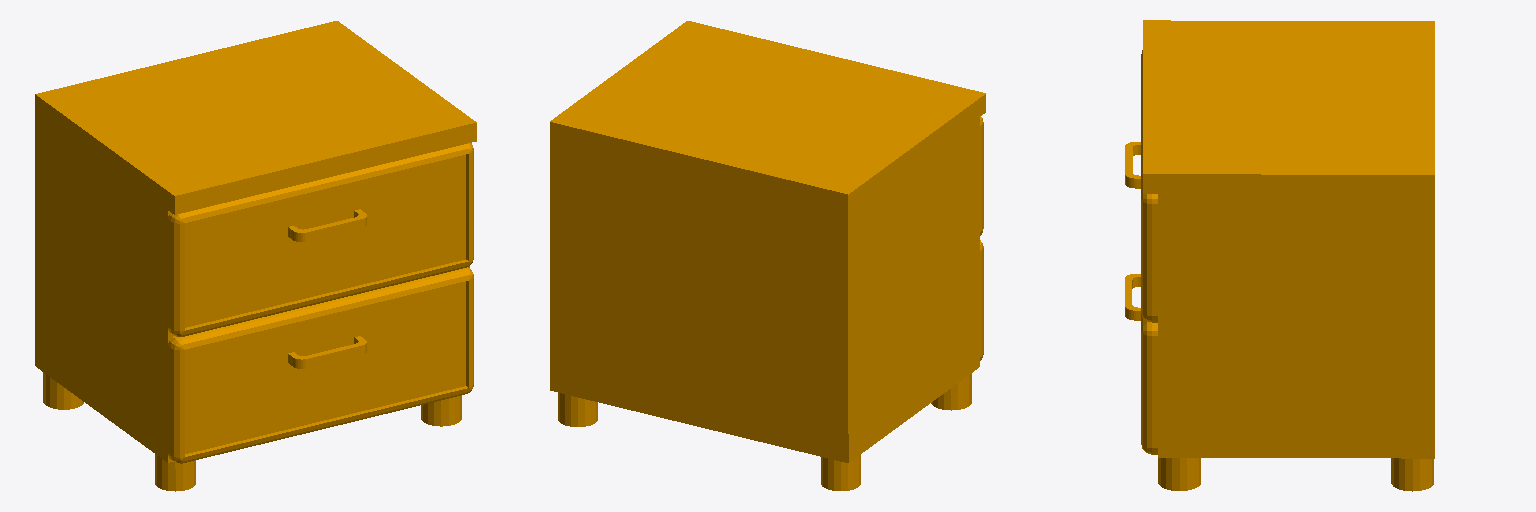
URDF robot description (none):
<robot name="none">
       <link name="none">
           <visual>
               <origin rpy="1.57 0 0" xyz="0 0 0" />
               <geometry>
                   <mesh filename="comodinoArancio.obj" />
               </geometry>
           </visual>
          <collision>
              <geometry>
                  <box size="1.000000 0.960000 0.850000" />
              </geometry>
          </collision>

          <inertial>
            <mass value="0.0" />
            <inertia ixx="0.0" ixy="0.0" ixz="0.0" iyy="0.0" iyz="0.0" izz="0.0" />
          </inertial>
      </link>
  </robot>

--- Facts derived from the render (not from the file) ---
The picture shows the robot from 3 angles, left to right: view 1: azimuth 30°, elevation 25°; view 2: azimuth 150°, elevation 25°; view 3: azimuth 270°, elevation 25°; orthographic projection.
Robot: none — 1 links, 0 joints (none); root link none; default pose: all joints at 0.
Links seen in each view (by area): view 1: none; view 2: none; view 3: none.
Link boxes in pixels (left/top/right/bottom): none: left=35, top=21, right=476, bottom=491; none: left=550, top=21, right=985, bottom=490; none: left=1125, top=20, right=1434, bottom=491.
Size in the robot's own frame: 1 by 0.8505 by 0.9606 metres.
1 mesh visuals loaded from 1 distinct referenced files (1 OBJ).